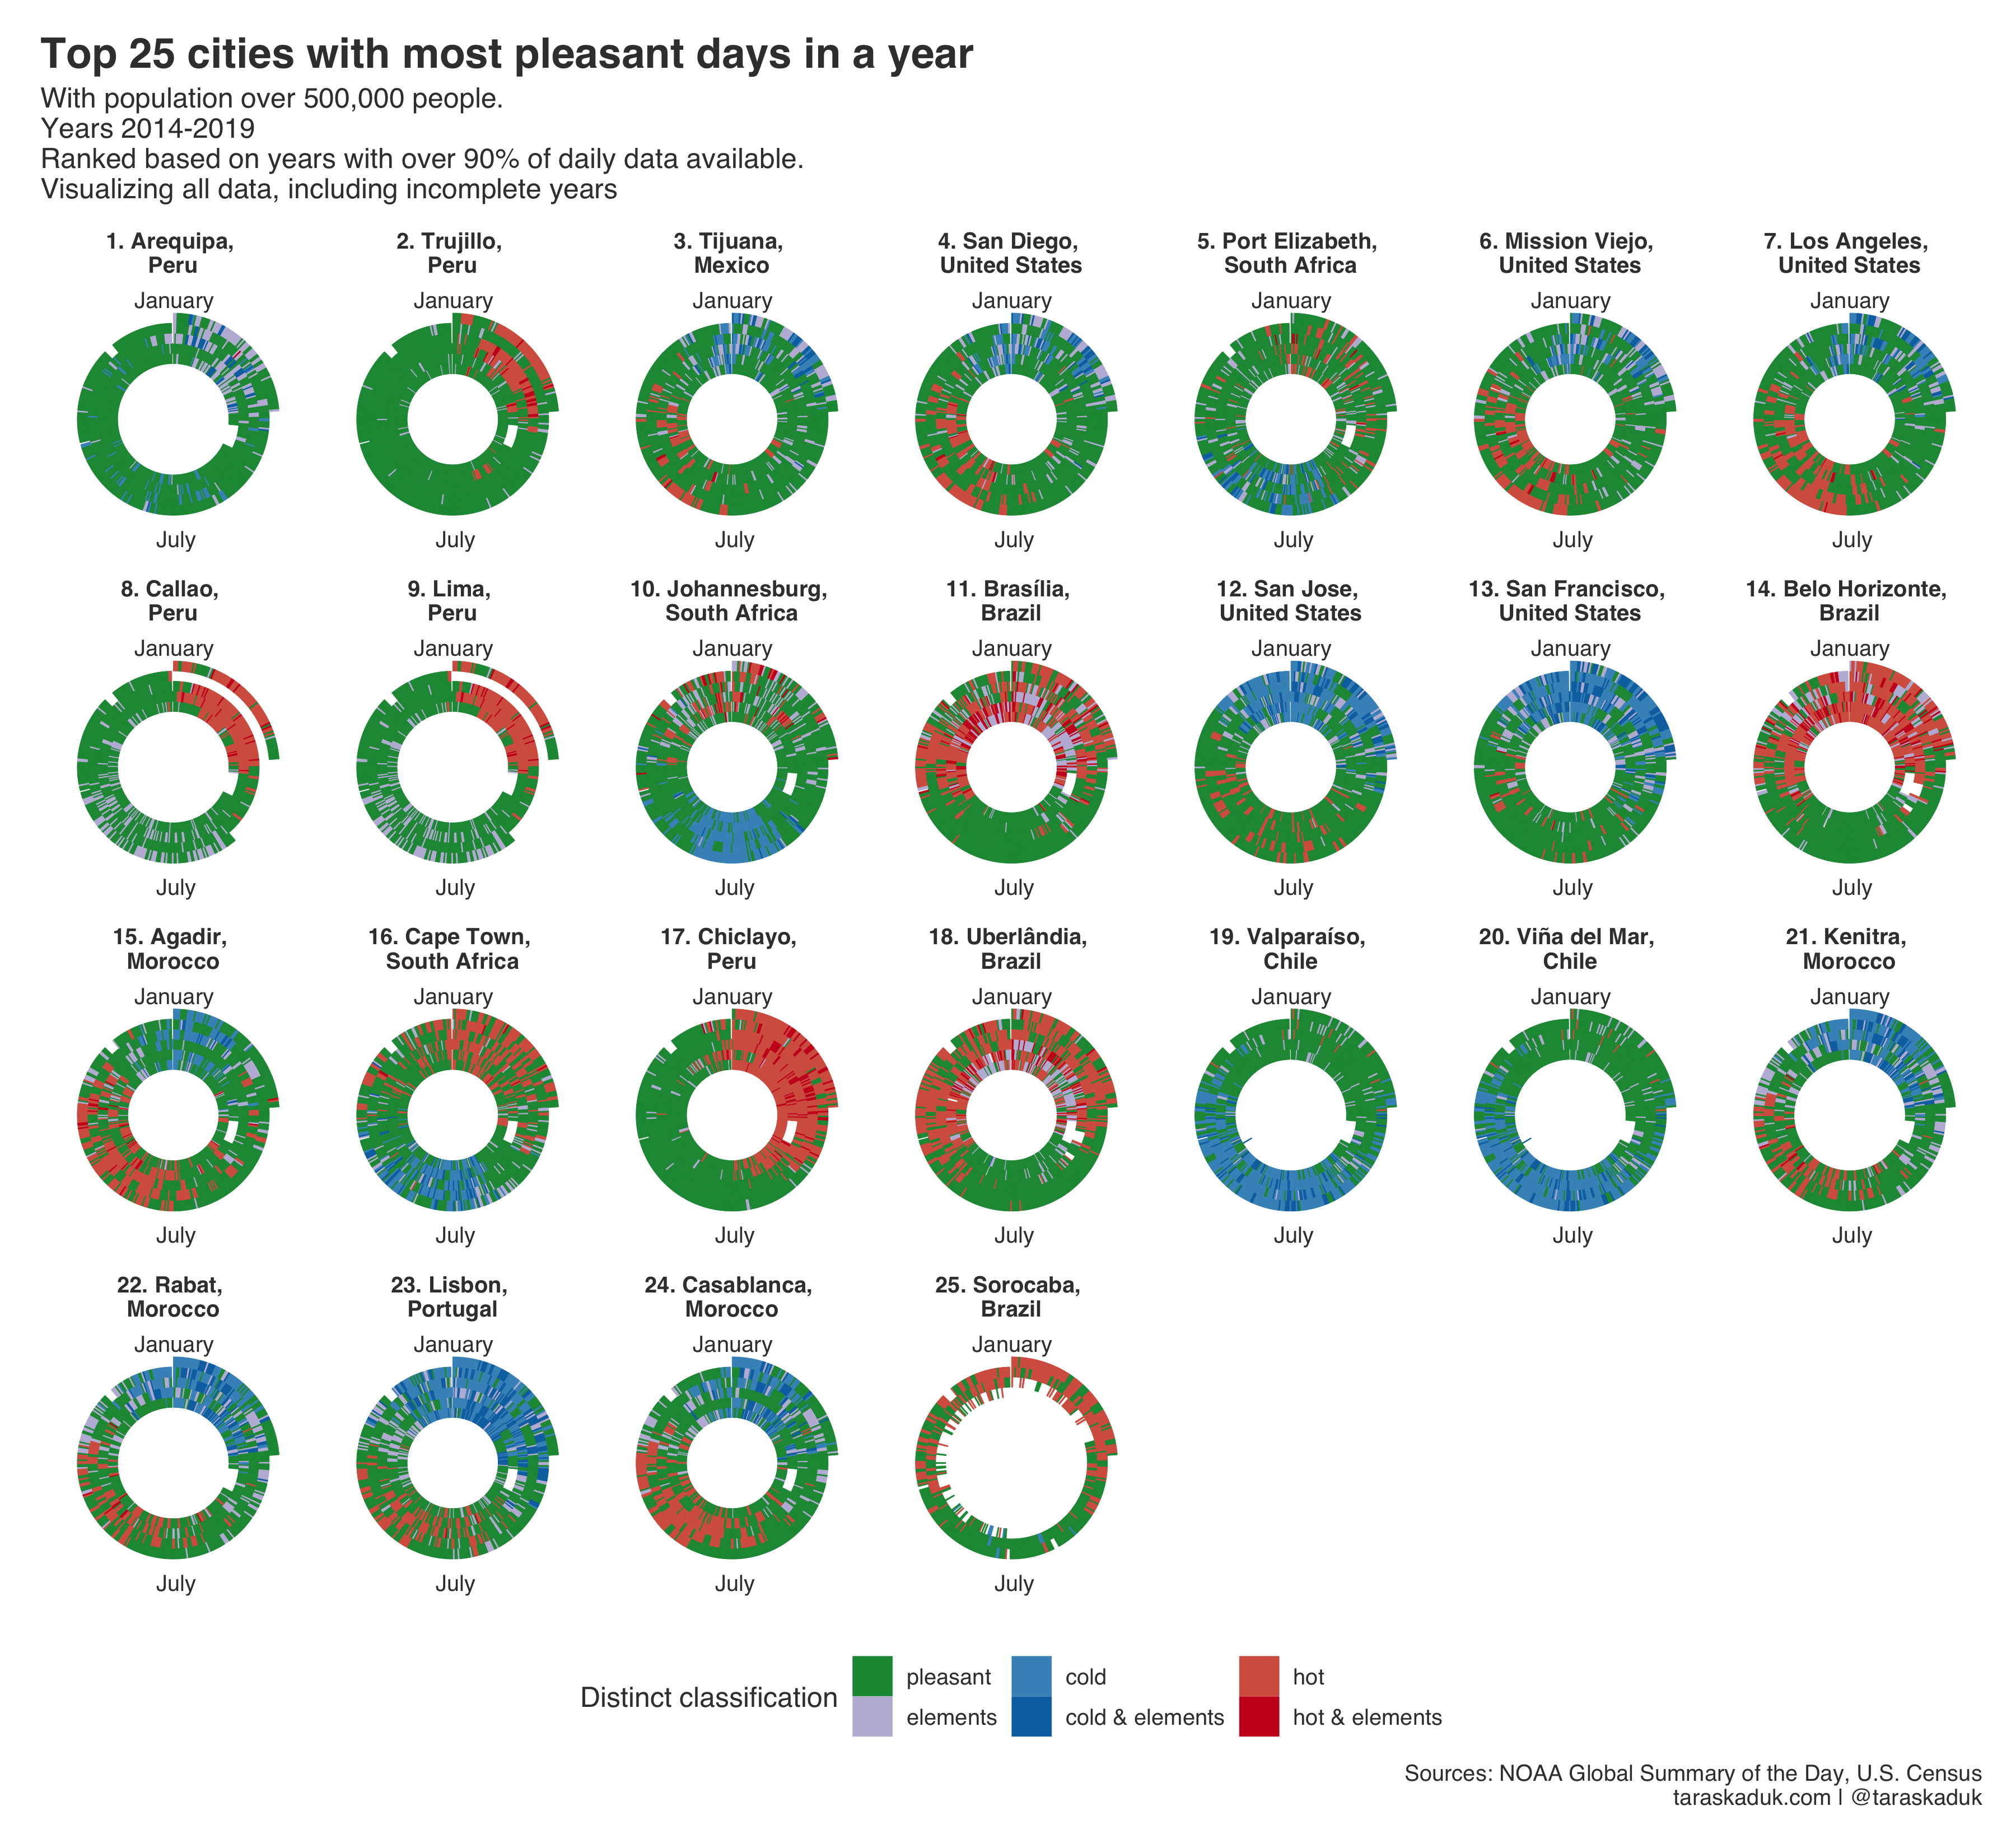

This screenshot's page, from the dashboard's own definition file:
{"tool":"tableau","page":{"name":"Radial Stack Bar Charts","canvas":[900,800],"ordinal":0},"visuals":[{"type":"worksheet","title":"radial stacked bar","mark":"Polygon","box":[0,0,796,800]},{"type":"legend","title":"radial stacked bar","param":"[federated.0d4brrl0id6ggj1ffol9q0xiccq4].[none:Calculation_4518799278402621453:n","box":[796,0,104,90]},{"type":"parameter","param":"[Parameters].[Parameter 4]","box":[796,90,104,52]},{"type":"parameter","param":"[Parameters].[Parameter 1]","box":[796,142,104,52]},{"type":"parameter","param":"[Parameters].[Parameter 2]","box":[796,194,104,52]},{"type":"parameter","param":"[Parameters].[Parameter 3]","box":[796,246,104,52]},{"type":"worksheet","title":"social","mark":"Shape","cols":["Platform"],"box":[840,770,60,30]}]}

Visuals, with their boxes on the page's 900x800 design canvas (x1, y1, x2, y2). These are canvas units, not pixel positions in the 2016x1848 screenshot, which may show the page scaled, cropped or inside an application window:
"radial stacked bar" worksheet (Polygon marks): l=0, t=0, r=796, b=800
"radial stacked bar" legend: l=796, t=0, r=900, b=90
parameter: l=796, t=90, r=900, b=142
parameter: l=796, t=142, r=900, b=194
parameter: l=796, t=194, r=900, b=246
parameter: l=796, t=246, r=900, b=298
"social" worksheet (Shape marks): l=840, t=770, r=900, b=800
